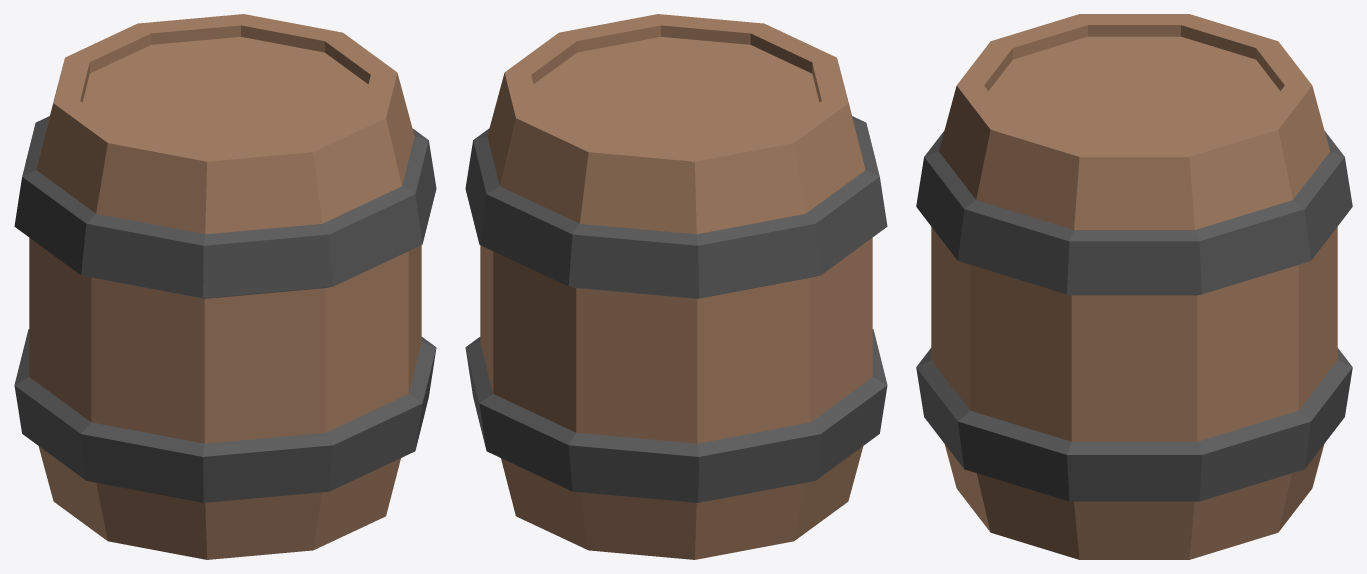
Rendered from Bochcacha.fbx.
3 views of the same model, side by side, from view 1: azimuth 30°, elevation 25°; view 2: azimuth 150°, elevation 25°; view 3: azimuth 270°, elevation 25° (orthographic).
Parts seen in each view (by area): view 1: boch ob; view 2: boch ob; view 3: boch ob.
Part boxes in pixels (x1=…): boch ob: x1=14, y1=14, x2=436, y2=559; boch ob: x1=465, y1=14, x2=887, y2=559; boch ob: x1=916, y1=14, x2=1352, y2=559.
Bounding box in the file's own units: 46.7 × 50 × 49.1.
